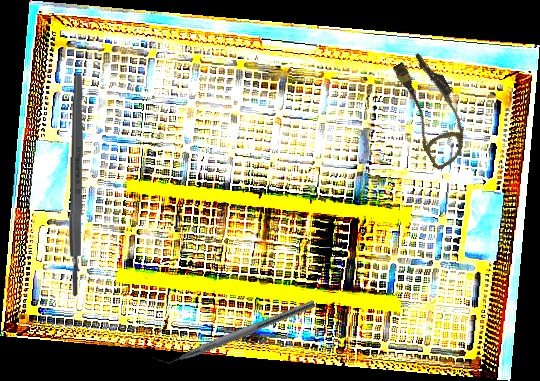Cannula: (381, 47, 483, 172)
Chopper: (151, 289, 316, 374)
Scalpel Handle: (68, 73, 85, 298)
